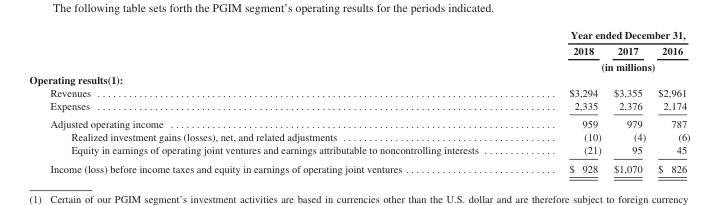table: (28, 28, 689, 173)
table column: (28, 28, 523, 173), (523, 28, 606, 173), (606, 28, 651, 173), (651, 28, 689, 173)
table column header: (28, 28, 689, 72)
table projected row header: (28, 72, 689, 85)
table row: (28, 42, 689, 58), (28, 98, 689, 114), (28, 114, 689, 130), (28, 143, 689, 159), (28, 28, 689, 42), (28, 58, 689, 72), (28, 159, 689, 173), (28, 72, 689, 85), (28, 85, 689, 98), (28, 130, 689, 143)
table spanning cell: (523, 28, 689, 42), (523, 58, 689, 72)
